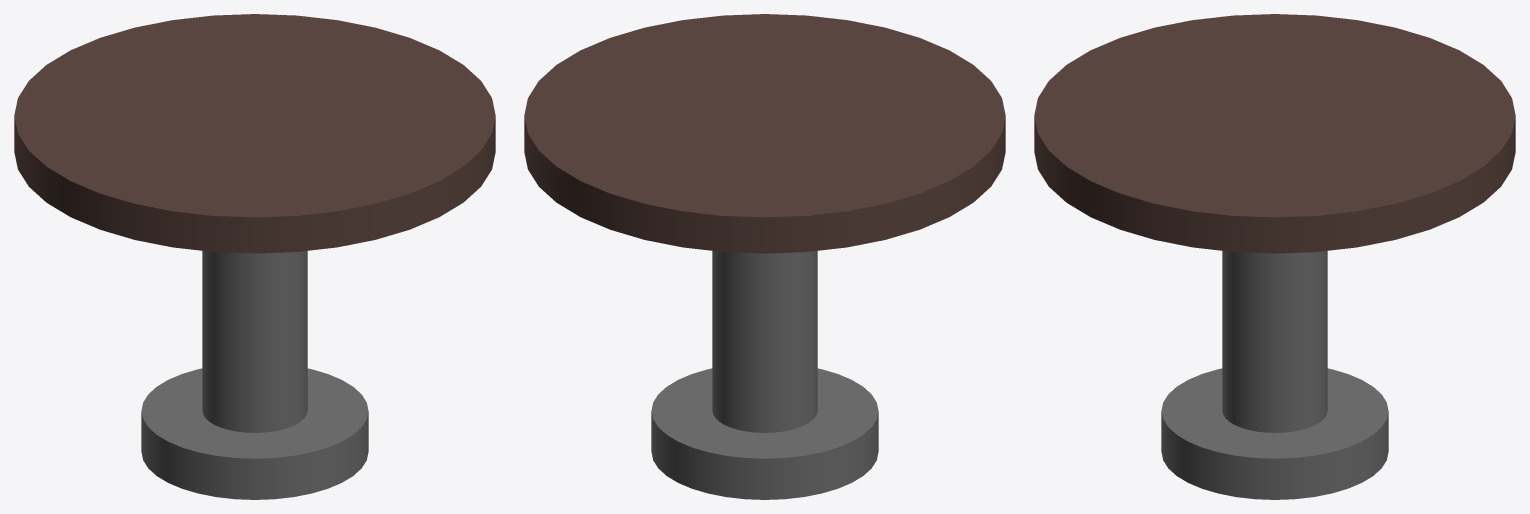
The model's file is table.fbx.
The picture shows the model from 3 angles, left to right: view 1: azimuth 30°, elevation 25°; view 2: azimuth 150°, elevation 25°; view 3: azimuth 270°, elevation 25°; orthographic projection.
Parts seen in each view (by area): view 1: Cylinder_5, Cylinder_8; view 2: Cylinder_5, Cylinder_8; view 3: Cylinder_5, Cylinder_8.
Boxes of the visible parts, x1,y1,x2,y2 form: Cylinder_5: (14, 14, 495, 253); Cylinder_8: (141, 251, 368, 499); Cylinder_5: (524, 14, 1005, 253); Cylinder_8: (651, 251, 878, 499); Cylinder_5: (1034, 14, 1515, 253); Cylinder_8: (1161, 251, 1388, 499).
Size of the model in its own units: 21.12 by 16.27 by 21.12.
